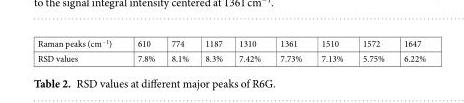table: (36, 36, 424, 63)
table column: (36, 36, 124, 63), (269, 36, 311, 63), (311, 36, 352, 63), (352, 36, 393, 63), (230, 36, 269, 63), (124, 36, 162, 63), (162, 36, 196, 63), (196, 36, 230, 63), (393, 36, 424, 63)
table row: (36, 36, 424, 50), (36, 50, 424, 63)
